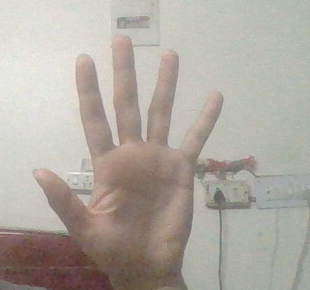move: (35, 33, 221, 277)
